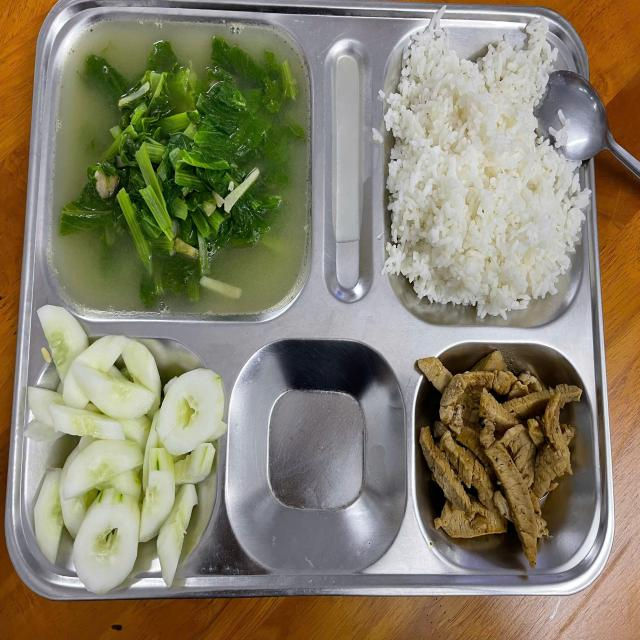canhrau: (57, 26, 300, 311)
dualeo: (28, 332, 219, 586)
salad: (398, 46, 568, 314)
teprim: (416, 352, 594, 568)
